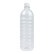plastic: (20, 3, 34, 51)
